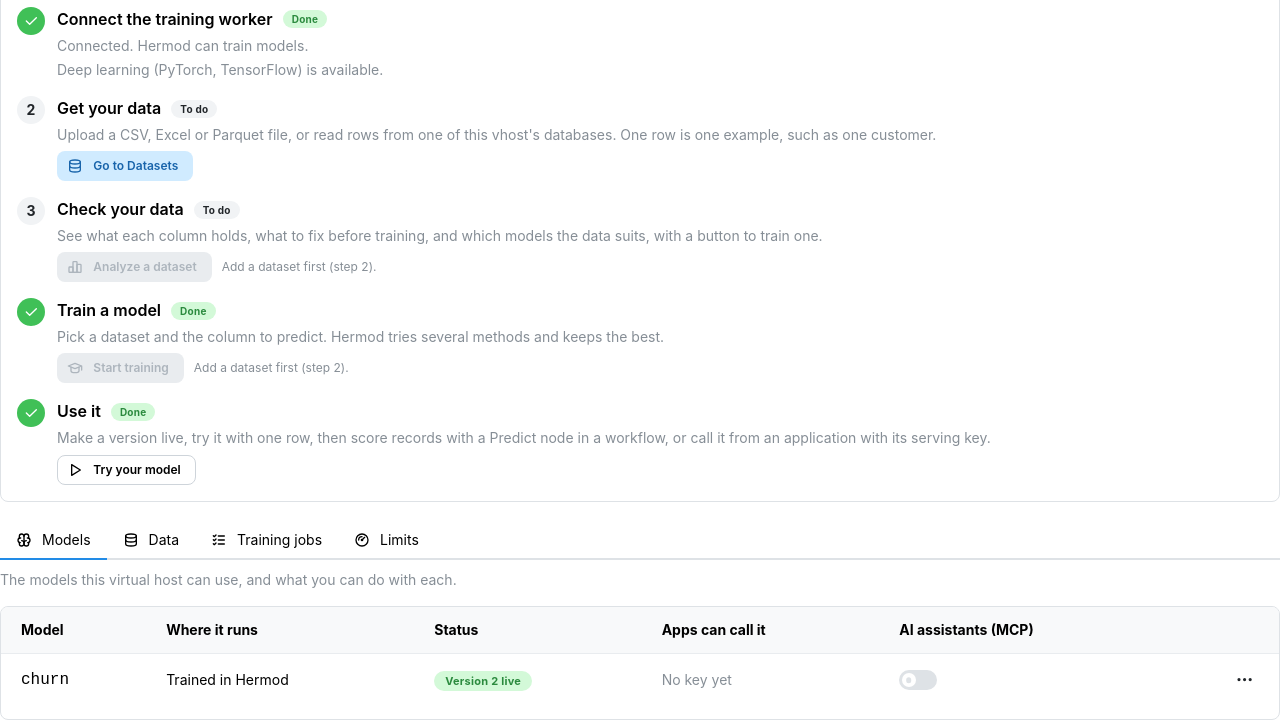
Test: Scoring on the Models page › switches a trained model to in-process scoring and shows what it scores with
(page scrolled)
Click the button named "More actions for churn".
click(1245, 680)  # box x1=1231 y1=666 x2=1259 y2=694
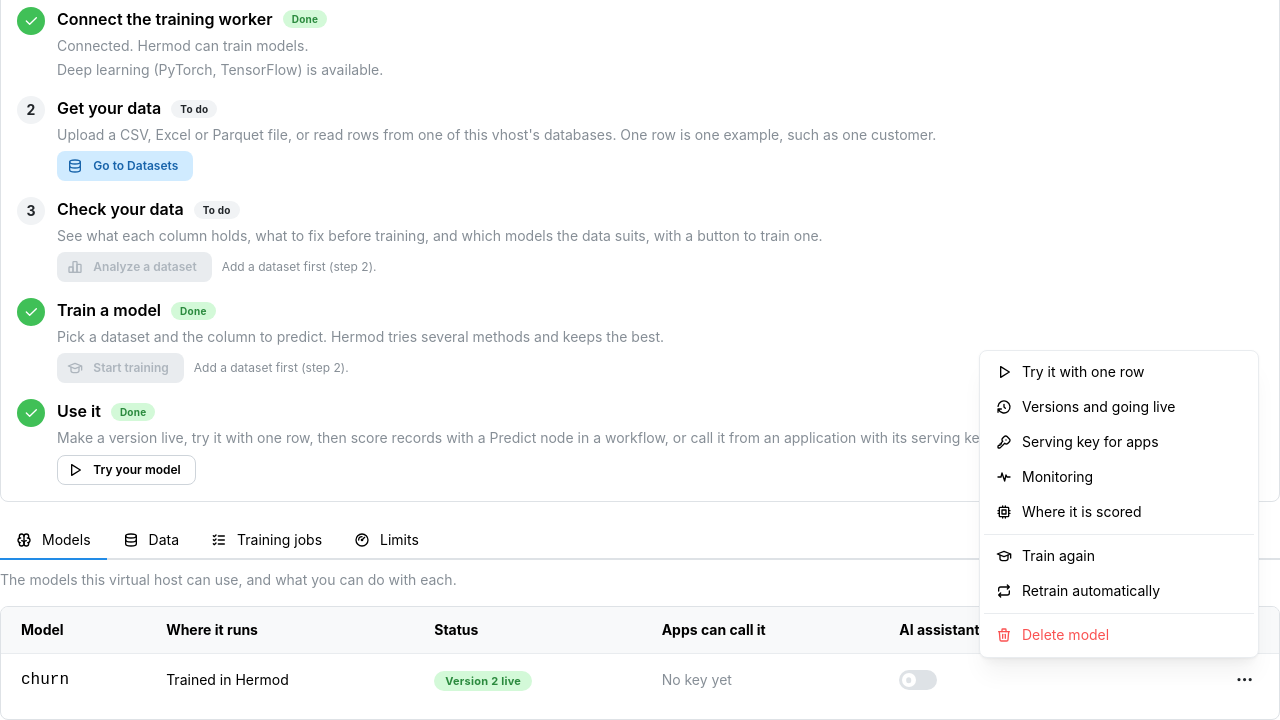
Click the menu item "Where it is scored".
click(1119, 512)  # box x1=984 y1=494 x2=1254 y2=530
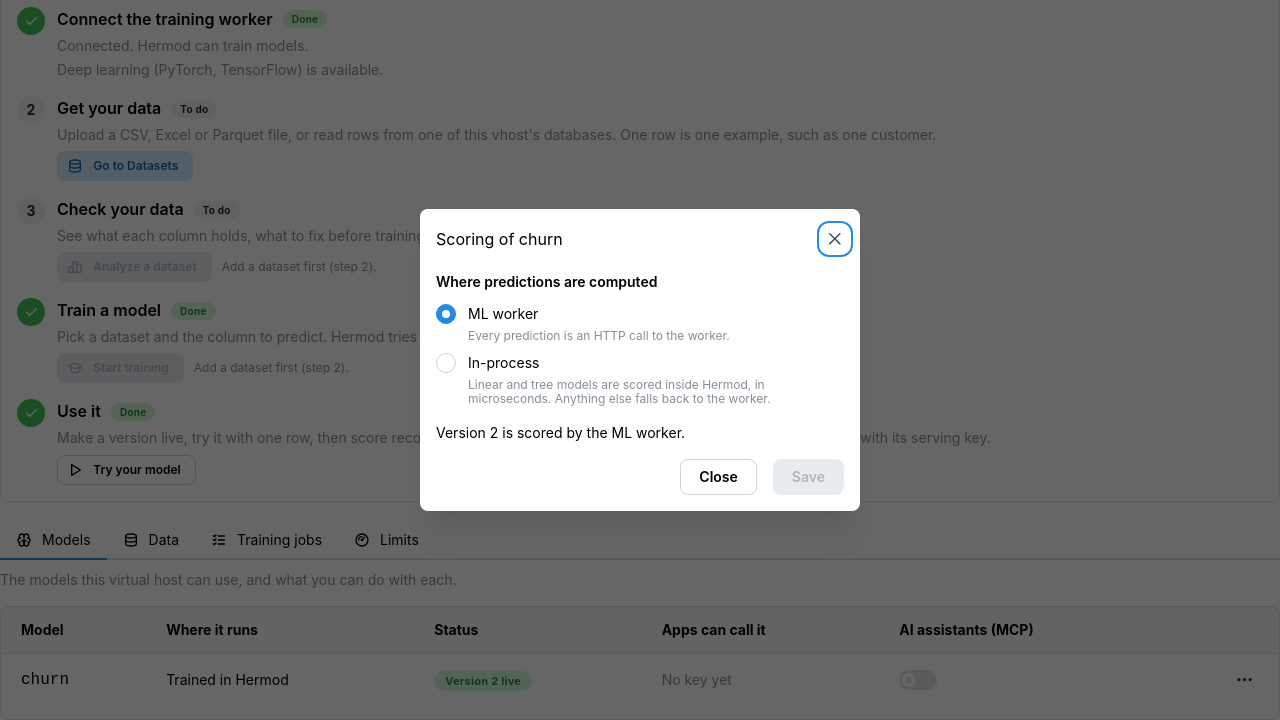
Expected: the text "Version 2 is scored by the ML worker." is shown, x1=436 y1=424 x2=685 y2=441
Click the radio button labelled "In-process".
click(446, 363)  # box x1=436 y1=353 x2=456 y2=373
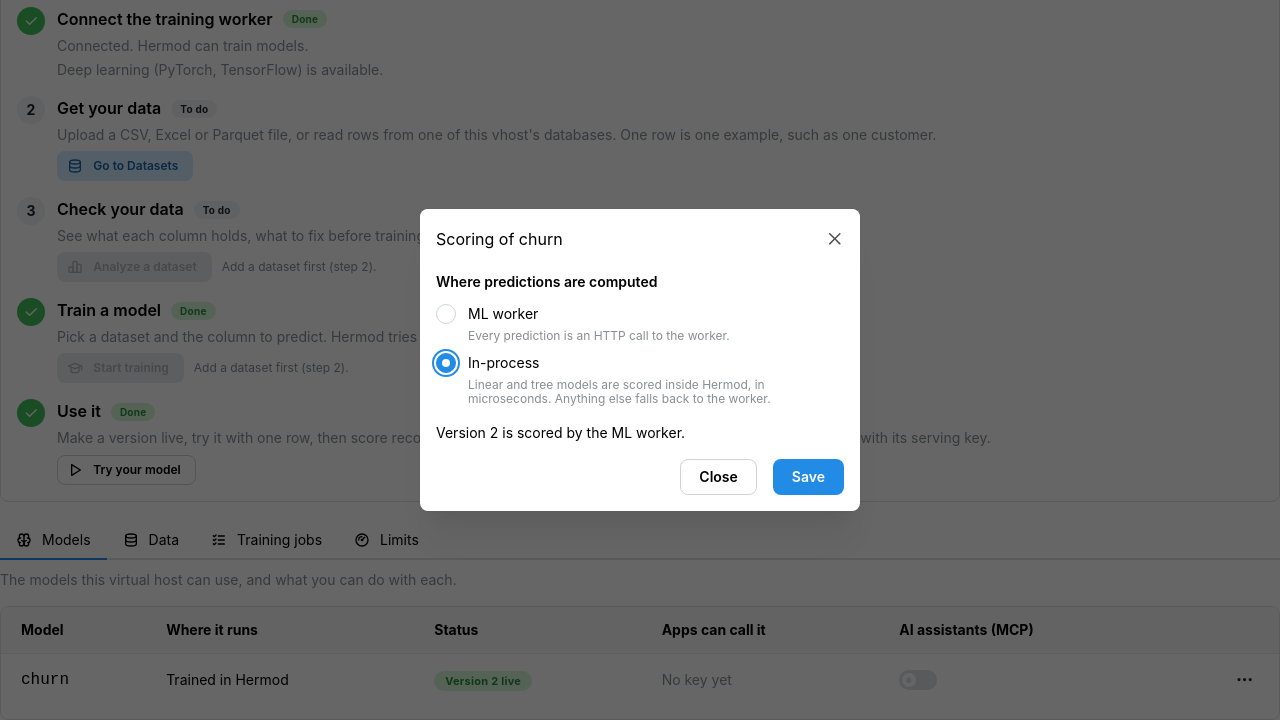
Click the button "Save".
click(808, 477)  # box x1=773 y1=459 x2=844 y2=495
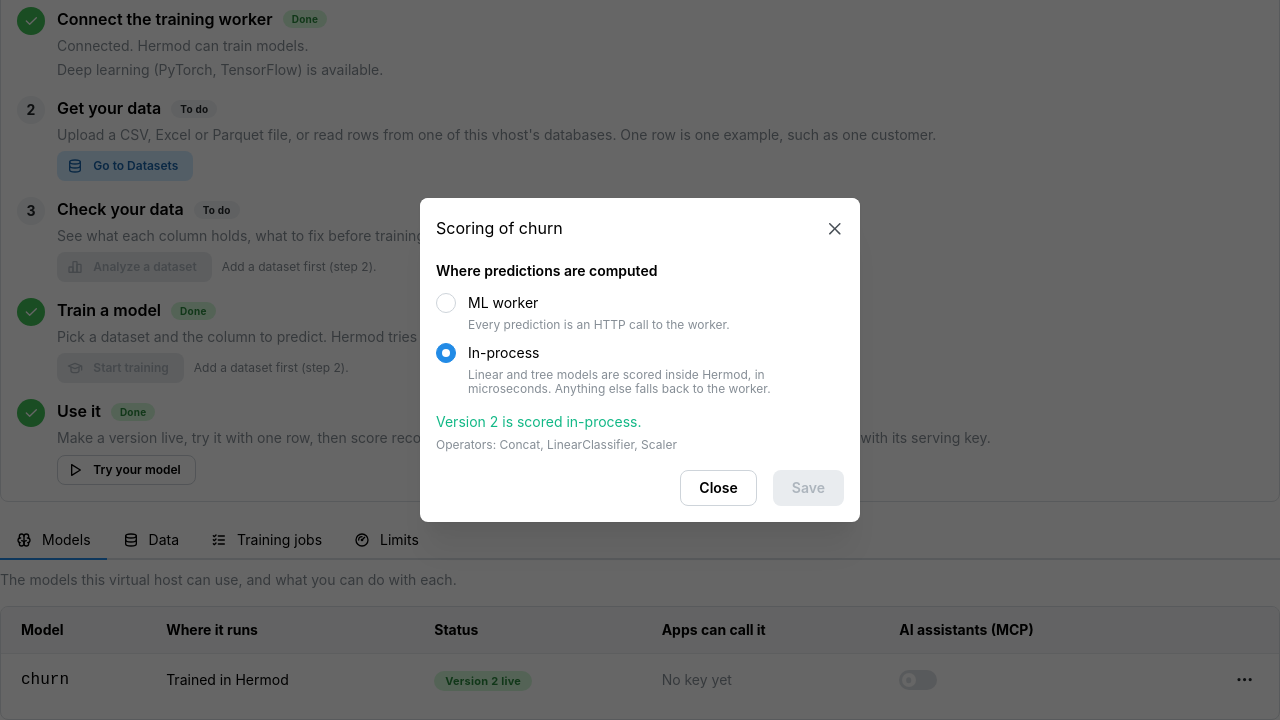
Expected: the text "Version 2 is scored in-process." is shown, x1=436 y1=413 x2=642 y2=430
Expected: the text "Operators: Concat, LinearClassifier, Scaler" is shown, x1=436 y1=437 x2=677 y2=452
